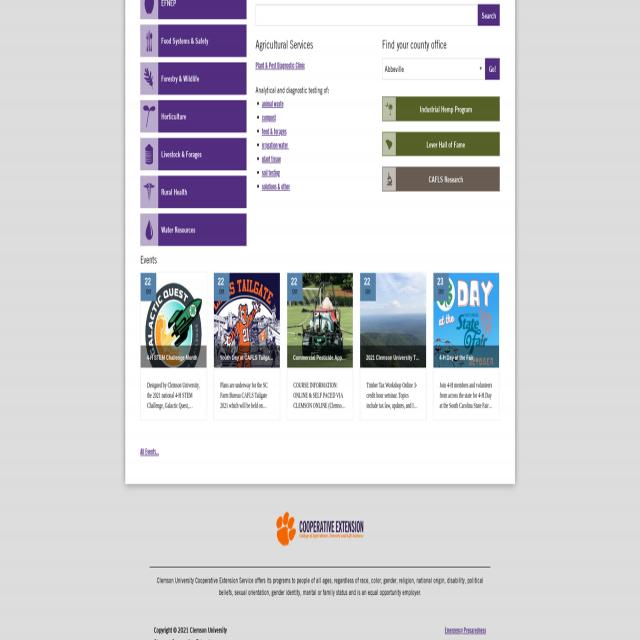button: (433, 272, 499, 419), (141, 273, 207, 419), (214, 273, 280, 419), (287, 273, 353, 419), (360, 273, 426, 419), (272, 505, 368, 555), (140, 100, 246, 133), (140, 137, 246, 170), (140, 24, 246, 57), (140, 214, 247, 246), (140, 62, 246, 94), (141, 176, 246, 208), (382, 96, 500, 122), (382, 132, 500, 157), (382, 167, 500, 192), (140, 0, 246, 19), (478, 4, 500, 25), (485, 58, 500, 80)
field: (255, 5, 478, 26), (382, 58, 485, 80)
